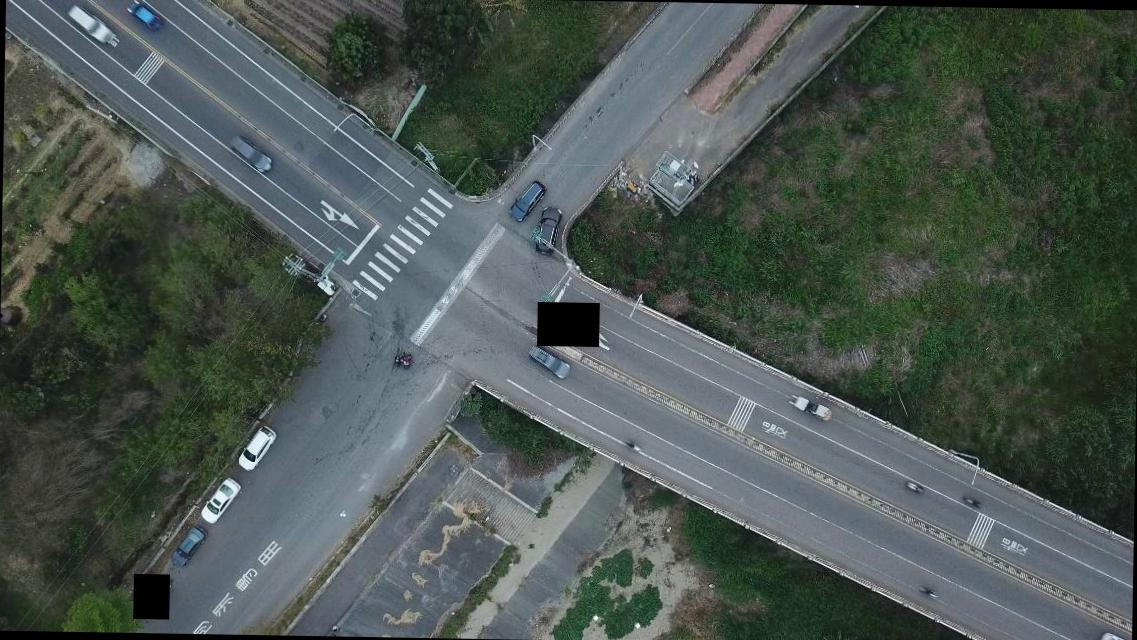vehicle: (235, 423, 278, 471), (200, 478, 242, 522), (66, 4, 113, 43), (228, 133, 272, 173), (508, 180, 546, 221), (528, 345, 573, 379), (170, 525, 206, 566), (533, 206, 562, 254), (124, 0, 163, 29), (1096, 628, 1132, 639)
